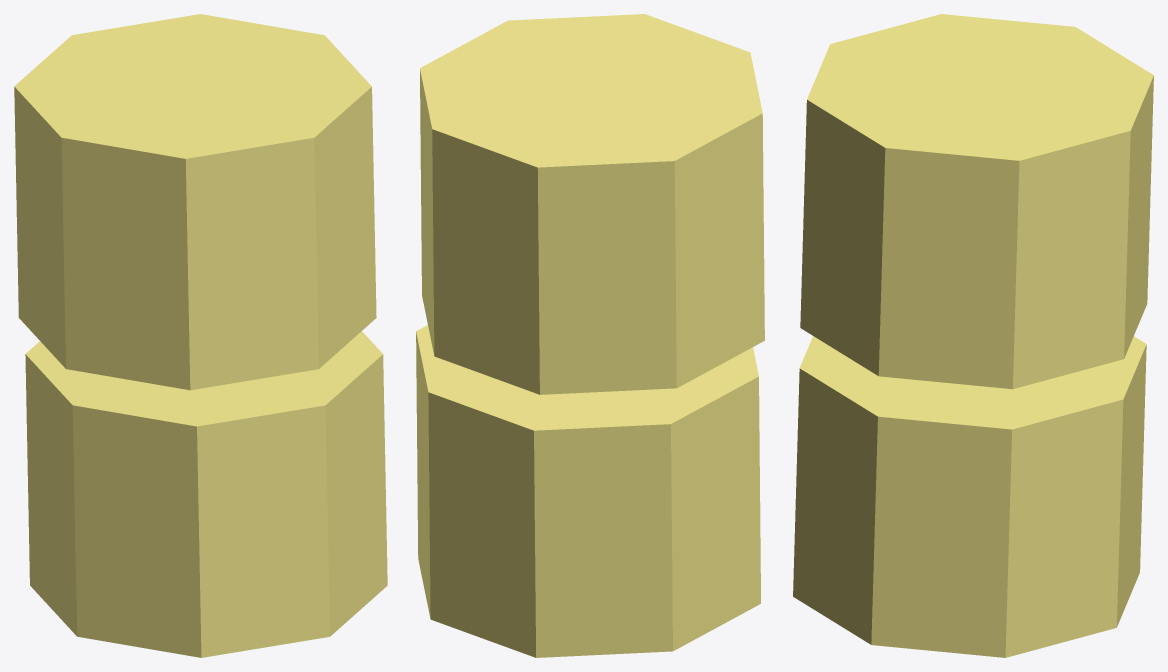
The model's file is Roap for boat 1.003.fbx.
3 views of the same model, side by side, from view 1: azimuth 30°, elevation 25°; view 2: azimuth 150°, elevation 25°; view 3: azimuth 270°, elevation 25° (orthographic).
Visible parts, largest first — view 1: Roap for boat 1.003; view 2: Roap for boat 1.003; view 3: Roap for boat 1.003.
Boxes of the visible parts, left/top/right/bottom form: Roap for boat 1.003: left=14, top=14, right=387, bottom=657; Roap for boat 1.003: left=416, top=14, right=764, bottom=657; Roap for boat 1.003: left=793, top=14, right=1153, bottom=657.
Size of the model in its own units: 11.98 by 18.57 by 12.11.
